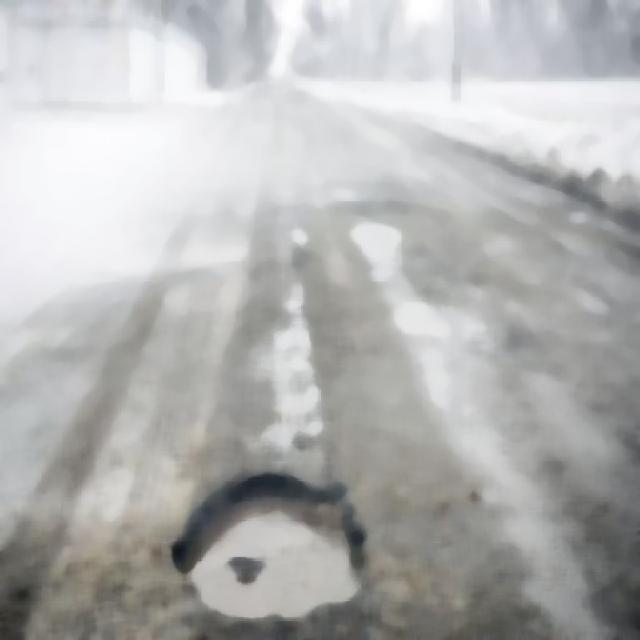Pothole: (174, 475, 361, 628)
